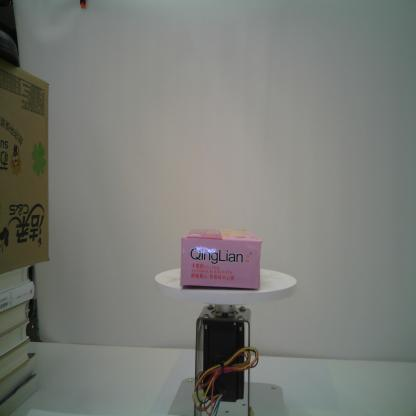Dessert: (180, 228, 263, 290)
